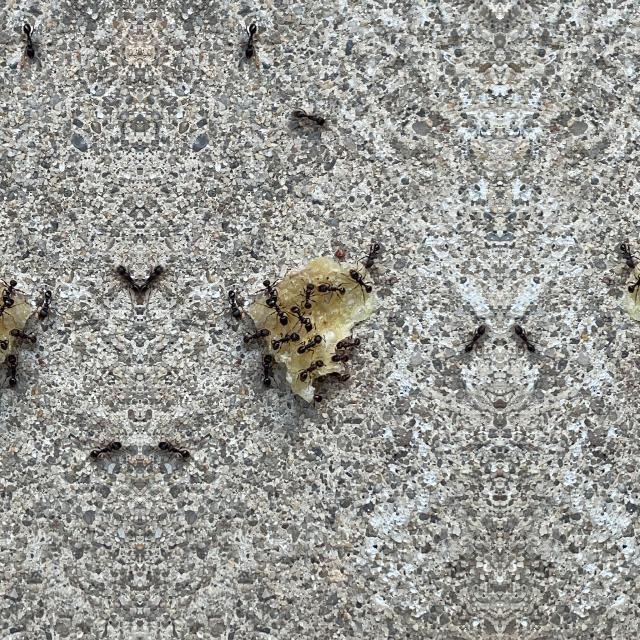Tetramorium: (454, 317, 488, 363), (512, 317, 546, 363), (140, 259, 174, 303), (106, 259, 140, 303), (234, 16, 264, 64), (16, 16, 46, 64), (288, 100, 326, 136), (250, 342, 276, 393), (4, 342, 30, 393), (92, 428, 125, 466), (156, 428, 188, 466), (234, 320, 272, 348), (8, 320, 46, 348), (290, 348, 324, 379), (270, 318, 300, 352), (314, 276, 346, 304), (368, 234, 394, 268), (285, 296, 311, 330), (606, 234, 632, 268), (348, 262, 374, 292), (296, 278, 316, 310), (225, 289, 245, 321), (35, 289, 55, 321), (268, 292, 290, 320), (336, 328, 364, 348), (298, 329, 324, 349), (626, 260, 640, 292), (325, 344, 347, 361), (264, 271, 278, 297), (2, 271, 16, 297), (0, 292, 10, 320), (0, 317, 8, 350)
